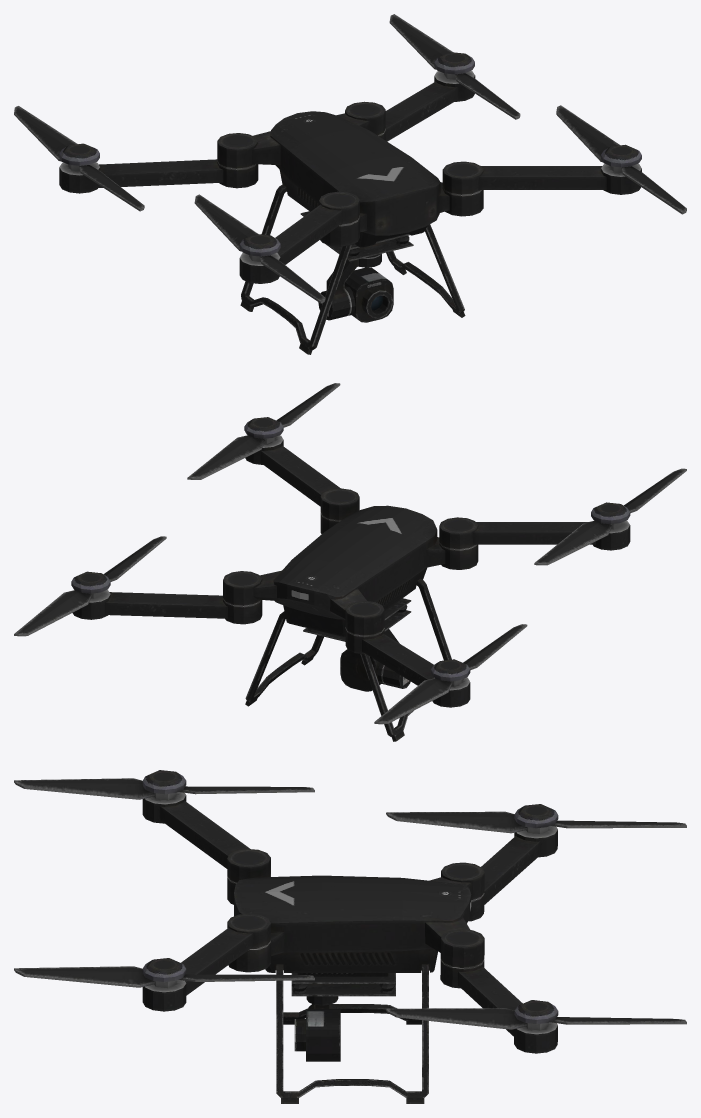
Rendered from _uav_recon_drone_shop.obj.
The picture shows the model from 3 angles, top to bottom: view 1: azimuth 30°, elevation 25°; view 2: azimuth 150°, elevation 25°; view 3: azimuth 270°, elevation 25°; orthographic projection. The views are drawn at different scales.
Visible parts, largest first — view 1: vehicle#fuse_0, vehicle#wing_FL, vehicle#wing_BR, vehicle#prop01_1_3, vehicle#wing_FR, vehicle#prop01_3_5, vehicle#prop01_2_9, vehicle#prop01_4_10, vehicle#wing_BL, vehicle#gear_r_8, vehicle#optic1_gun_6, vehicle#gear_l_7 (+1 smaller); view 2: vehicle#fuse_0, vehicle#wing_BL, vehicle#wing_FR, vehicle#prop01_2_9, vehicle#prop01_4_10, vehicle#prop01_3_5, vehicle#prop01_1_3, vehicle#wing_BR, vehicle#wing_FL, vehicle#gear_r_8, vehicle#gear_l_7, vehicle#optic1_gun_6 (+1 smaller); view 3: vehicle#fuse_0, vehicle#prop01_4_10, vehicle#prop01_3_5, vehicle#prop01_1_3, vehicle#prop01_2_9, vehicle#wing_FL, vehicle#wing_FR, vehicle#gear_l_7, vehicle#wing_BL, vehicle#wing_BR, vehicle#optic1_gun_6, vehicle#gear_r_8.
Boxes of the visible parts, bbox=[...] form: vehicle#fuse_0: bbox=[217, 101, 483, 267]; vehicle#wing_FL: bbox=[478, 163, 641, 194]; vehicle#wing_BR: bbox=[59, 159, 223, 193]; vehicle#prop01_1_3: bbox=[194, 194, 325, 303]; vehicle#wing_FR: bbox=[239, 204, 342, 283]; vehicle#prop01_3_5: bbox=[556, 105, 686, 214]; vehicle#prop01_2_9: bbox=[14, 106, 144, 211]; vehicle#prop01_4_10: bbox=[389, 14, 520, 119]; vehicle#wing_BL: bbox=[385, 71, 475, 141]; vehicle#gear_r_8: bbox=[240, 184, 351, 354]; vehicle#optic1_gun_6: bbox=[344, 267, 393, 322]; vehicle#gear_l_7: bbox=[386, 224, 465, 317]; vehicle#fuse_0: bbox=[223, 488, 478, 654]; vehicle#wing_BL: bbox=[72, 589, 227, 619]; vehicle#wing_FR: bbox=[472, 520, 630, 550]; vehicle#prop01_2_9: bbox=[374, 624, 527, 724]; vehicle#prop01_4_10: bbox=[14, 536, 166, 636]; vehicle#prop01_3_5: bbox=[187, 383, 340, 479]; vehicle#prop01_1_3: bbox=[534, 468, 686, 565]; vehicle#wing_BR: bbox=[362, 633, 470, 707]; vehicle#wing_FL: bbox=[245, 435, 340, 506]; vehicle#gear_r_8: bbox=[360, 578, 451, 741]; vehicle#gear_l_7: bbox=[245, 611, 323, 706]; vehicle#optic1_gun_6: bbox=[340, 649, 381, 691]; vehicle#fuse_0: bbox=[227, 849, 484, 1005]; vehicle#prop01_4_10: bbox=[386, 1000, 686, 1030]; vehicle#prop01_3_5: bbox=[14, 958, 314, 988]; vehicle#prop01_1_3: bbox=[14, 770, 314, 800]; vehicle#prop01_2_9: bbox=[386, 804, 686, 833]; vehicle#wing_FL: bbox=[142, 928, 253, 1011]; vehicle#wing_FR: bbox=[142, 792, 249, 868]; vehicle#gear_l_7: bbox=[276, 964, 428, 1103]; vehicle#wing_BL: bbox=[458, 966, 557, 1053]; vehicle#wing_BR: bbox=[481, 826, 557, 904]; vehicle#optic1_gun_6: bbox=[294, 1009, 340, 1061]; vehicle#gear_r_8: bbox=[283, 1004, 421, 1024].
Size of the model in its own units: 0.5289 by 0.2231 by 0.7014.
